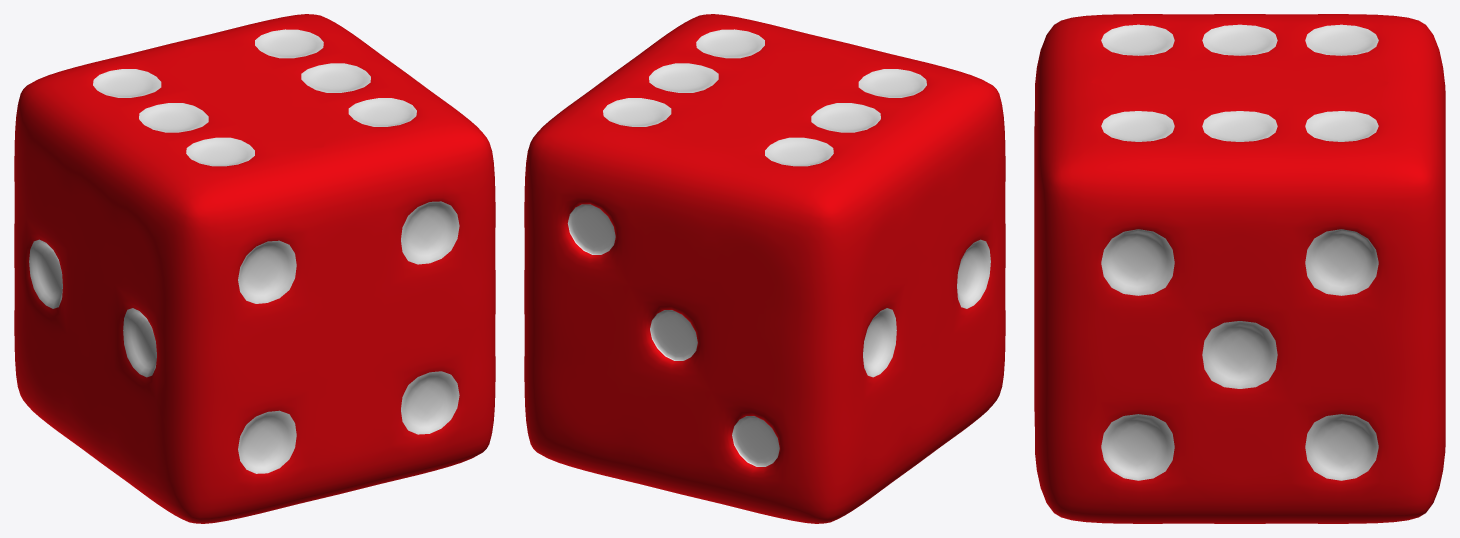
File: red dice.fbx
The picture shows the model from 3 angles, left to right: view 1: azimuth 30°, elevation 25°; view 2: azimuth 150°, elevation 25°; view 3: azimuth 270°, elevation 25°; orthographic projection. The views are drawn at different scales.
Visible parts, largest first — view 1: Cube.005; view 2: Cube.005; view 3: Cube.005.
Boxes of the visible parts, box(x1,y1,x2,y2) form: Cube.005: box(14, 14, 495, 523); Cube.005: box(524, 14, 1005, 523); Cube.005: box(1034, 14, 1445, 523).
Size of the model in its own units: 10 by 10 by 10.
